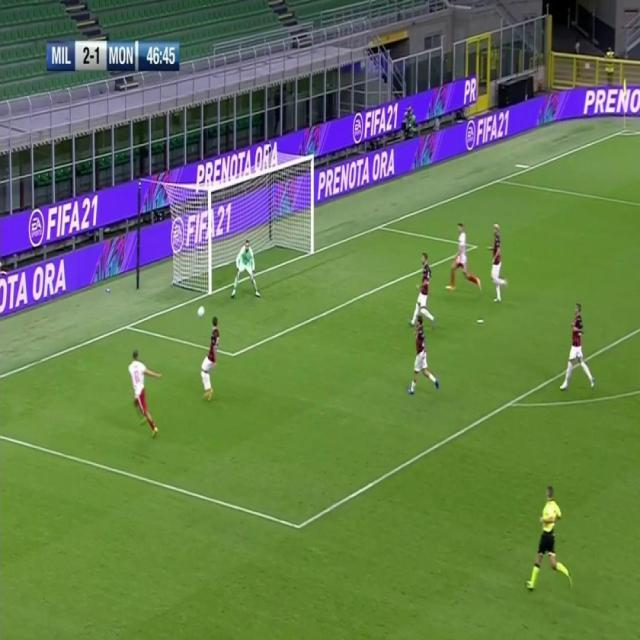ball: (196, 303, 206, 319)
goalkeeper: (231, 236, 261, 301)
player: (128, 344, 163, 437), (561, 302, 596, 394), (408, 318, 440, 401), (446, 222, 481, 297), (408, 248, 436, 331), (200, 317, 222, 406), (488, 221, 508, 305)
referee: (526, 486, 571, 603)
